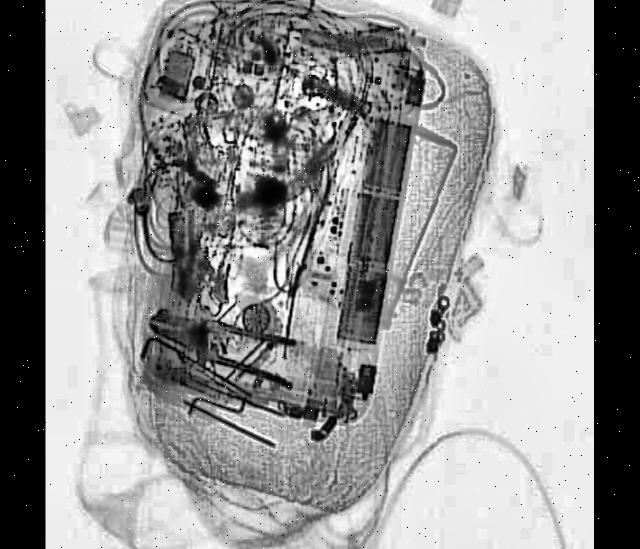Pliers: (143, 294, 300, 386)
